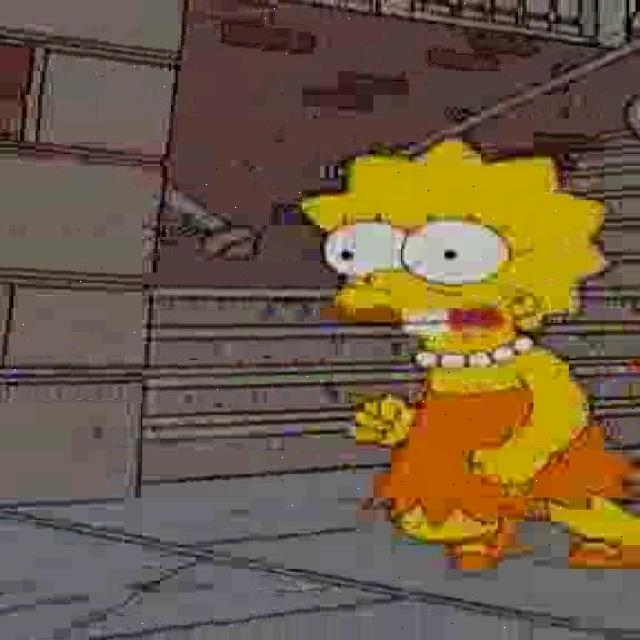Lisa Simpson: (303, 138, 621, 364)
